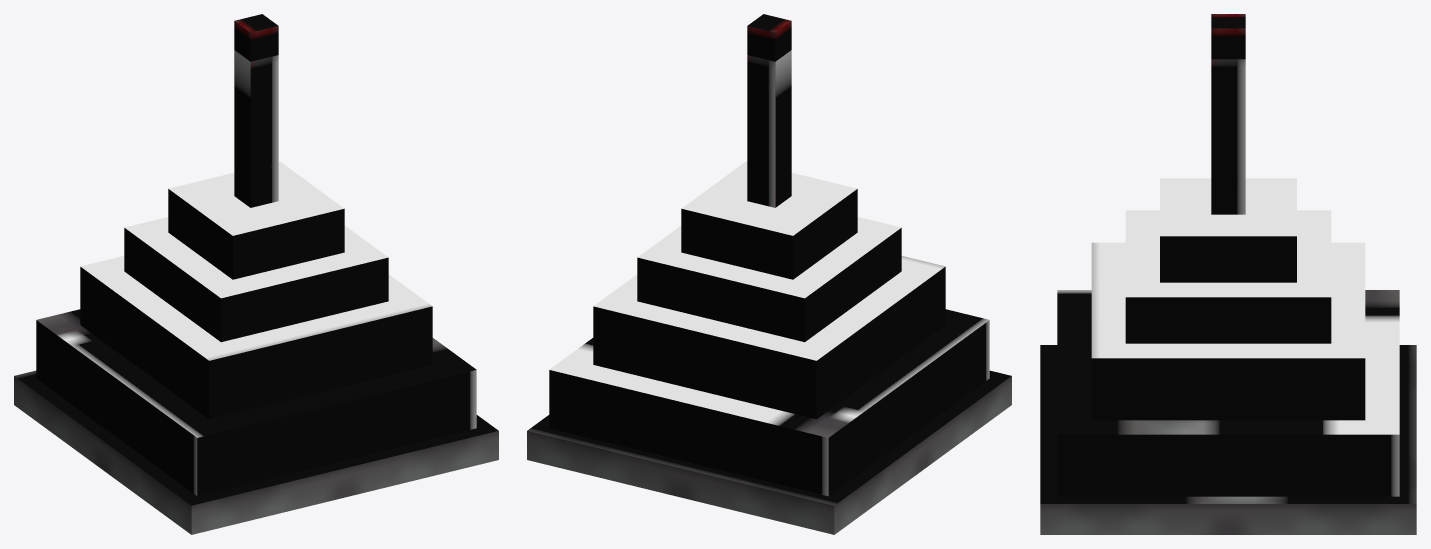
Rendered from rocket_top_advanced.obj.
The picture shows the model from 3 angles, left to right: view 1: azimuth 30°, elevation 25°; view 2: azimuth 150°, elevation 25°; view 3: azimuth 270°, elevation 25°; orthographic projection. The views are drawn at different scales.
Parts seen in each view (by area): view 1: RocketTop.002_Cube.004; view 2: RocketTop.002_Cube.004; view 3: RocketTop.002_Cube.004.
Boxes of the visible parts, <box> form: RocketTop.002_Cube.004: <box>14,14,498,534</box>; RocketTop.002_Cube.004: <box>527,14,1011,534</box>; RocketTop.002_Cube.004: <box>1040,14,1416,534</box>.
Bounding box in the file's own units: 1.38 × 1.75 × 1.38.
